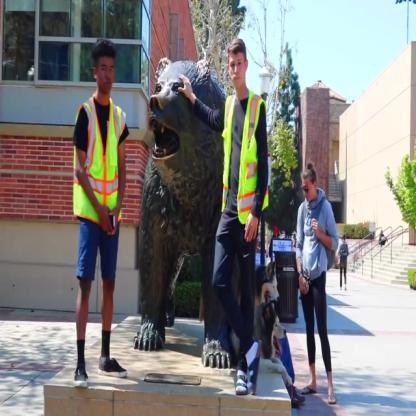bota: (98, 354, 128, 379), (73, 363, 89, 388)
